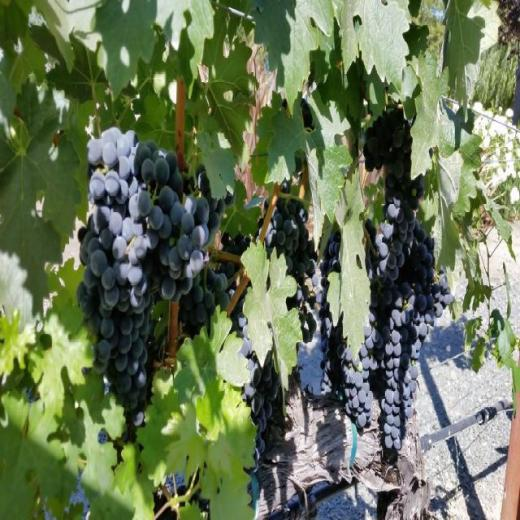Orange: (74, 124, 318, 456), (320, 108, 451, 456)
